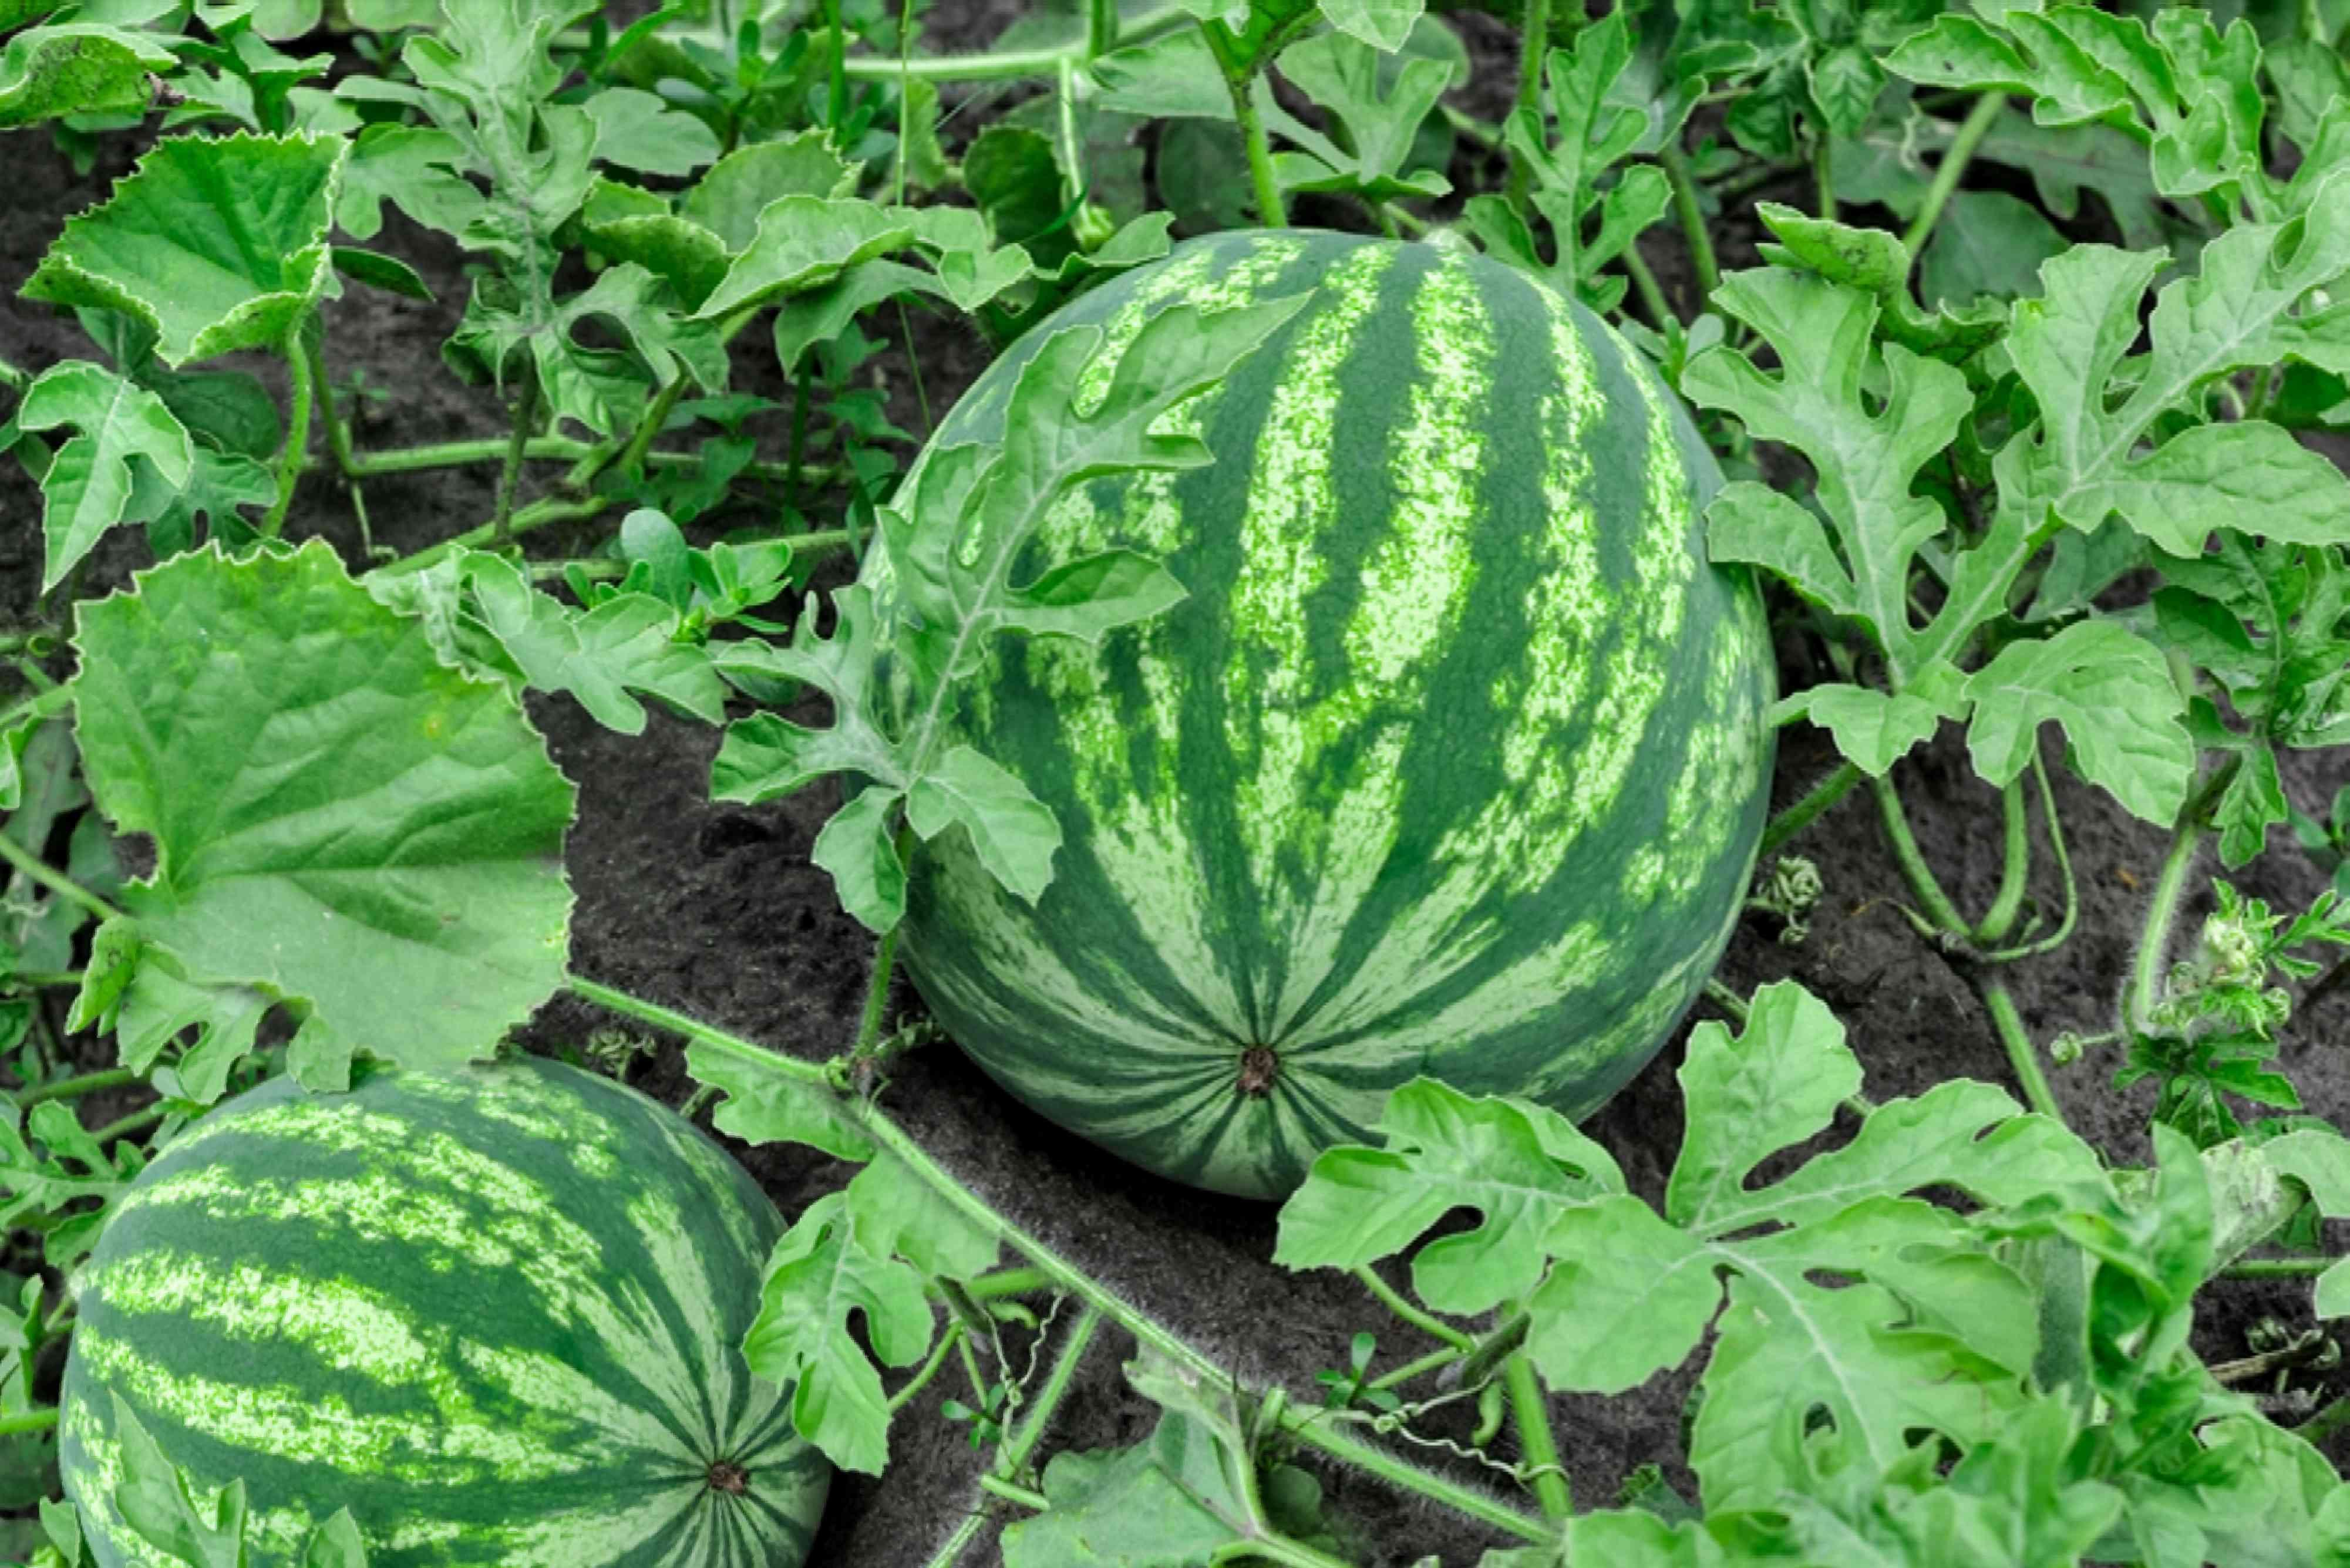watermelon: (822, 208, 1797, 1225), (47, 1048, 887, 1568)
